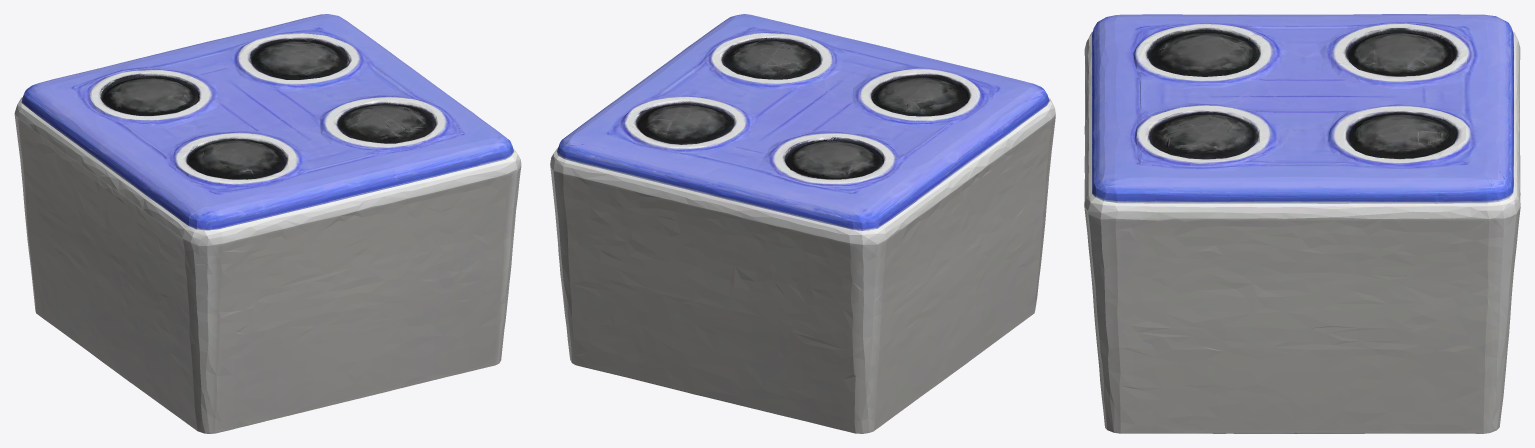
File: ast_fc4d08db170e.glb
3 renders of one model, left to right at view 1: azimuth 30°, elevation 25°; view 2: azimuth 150°, elevation 25°; view 3: azimuth 270°, elevation 25°, orthographic. The views are drawn at different scales.
Visible parts, largest first — view 1: geometry_0; view 2: geometry_0; view 3: geometry_0.
Part boxes in pixels (x1,y1,x2,y2): geometry_0: (14,14,521,433); geometry_0: (550,14,1055,433); geometry_0: (1084,14,1520,433).
Size of the model in its own units: 0.5294 by 0.3549 by 0.5303.
1 material, 1 textured.
